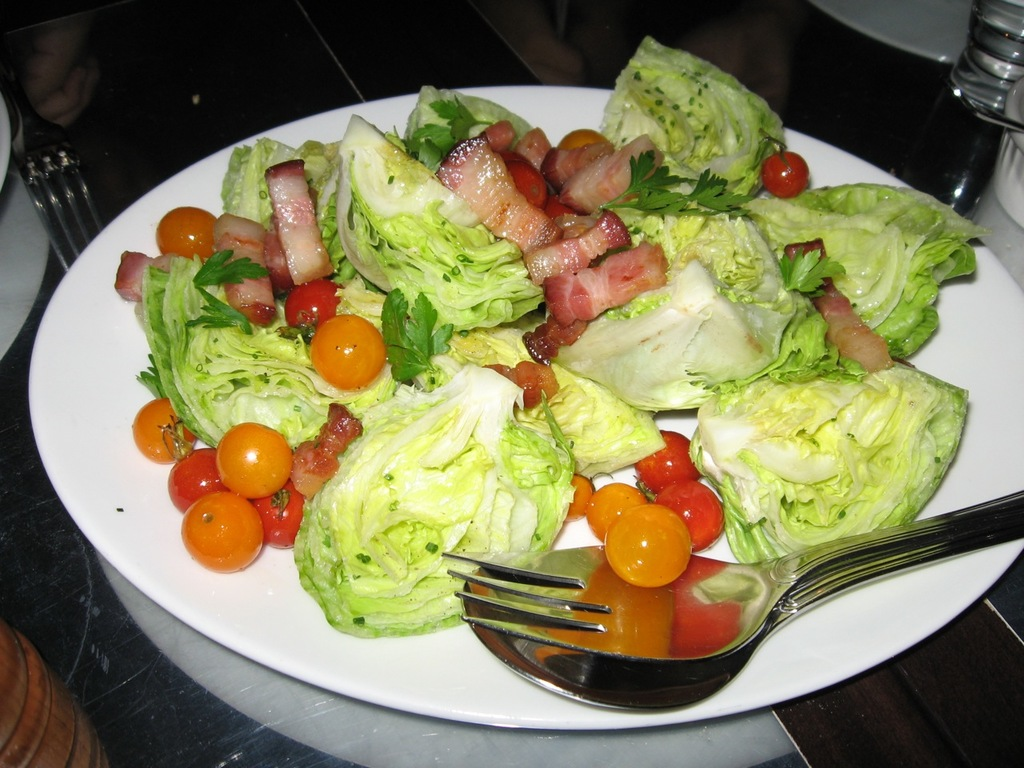Tomato: (602, 504, 695, 594), (179, 490, 264, 575), (215, 420, 294, 496), (299, 305, 375, 382), (658, 480, 727, 551), (132, 395, 200, 463), (635, 428, 703, 496), (167, 446, 226, 506), (160, 207, 220, 264), (260, 487, 310, 546), (588, 483, 639, 536), (283, 278, 339, 324), (764, 152, 806, 199), (563, 474, 598, 523), (508, 160, 546, 202)
